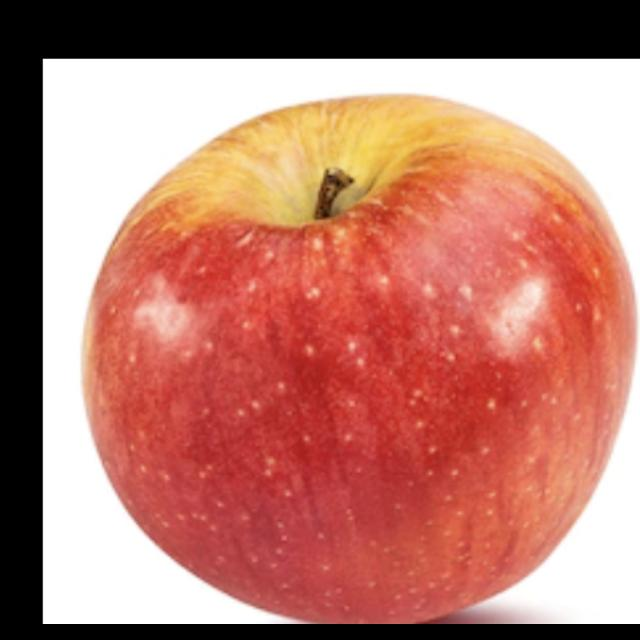Apel Segar: (79, 95, 637, 625)
